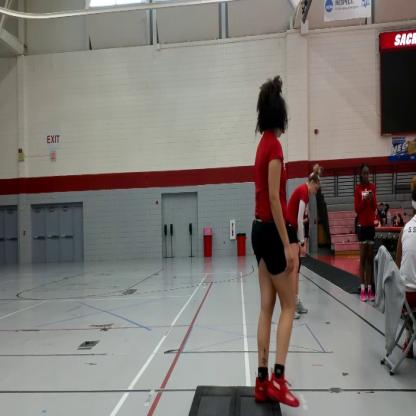lateral_flexion_normal: (251, 78, 305, 412)
stance_width_broad: (251, 134, 304, 409)
